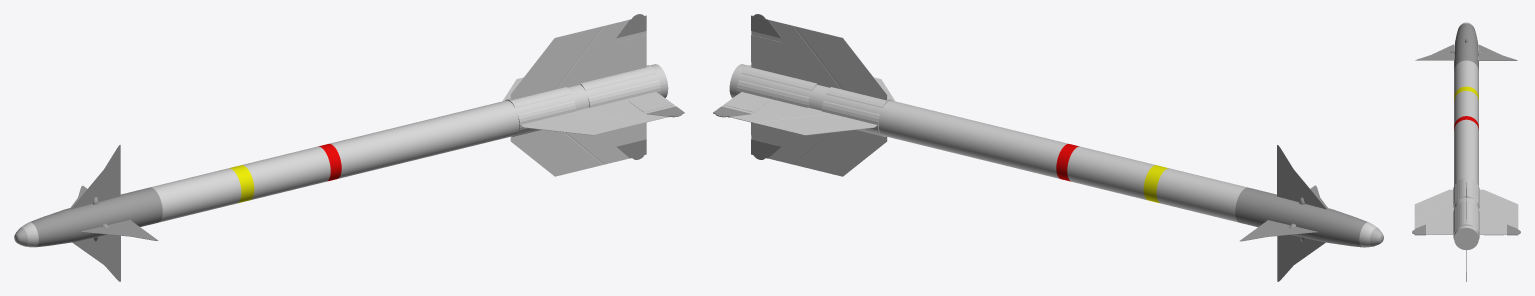
Rendered from missile2.dae.
3 views of the same model, side by side, from view 1: azimuth 30°, elevation 25°; view 2: azimuth 150°, elevation 25°; view 3: azimuth 270°, elevation 25° (orthographic). The views are drawn at different scales.
Parts seen in each view (by area): view 1: Cylinder; view 2: Cylinder; view 3: Cylinder.
Boxes of the visible parts, bbox=[...] form: Cylinder: bbox=[14, 14, 684, 281]; Cylinder: bbox=[713, 14, 1383, 281]; Cylinder: bbox=[1412, 22, 1520, 281].
Bounding box in the file's own units: 9.27 × 2 × 2.
